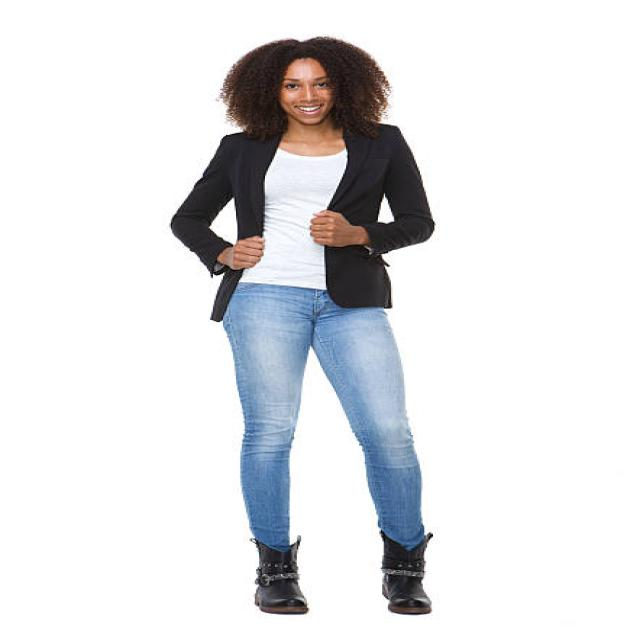Edited images: (139, 20, 499, 634)
